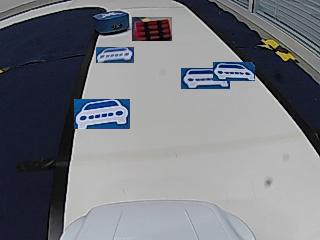prop: (94, 10, 129, 35)
